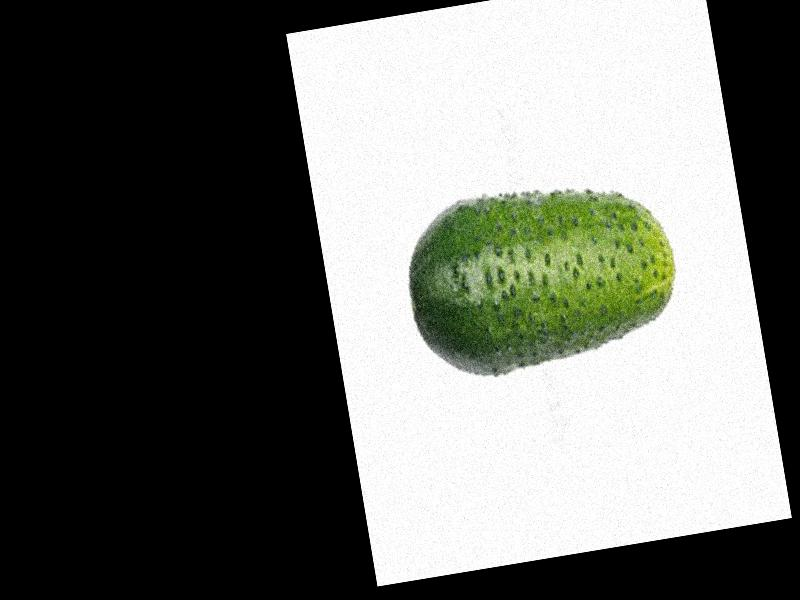Cucumber: (395, 164, 689, 388)
